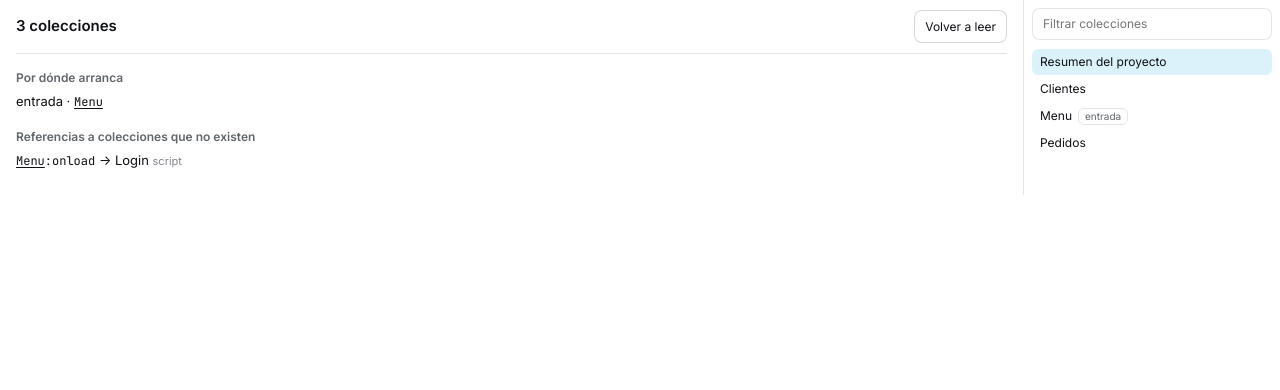
it: Colecciones › las tres confianzas van en grupos SEPARADOS, y la mención se rotula como señal floja
Click the button "Clientes": click(1152, 89) x1=1032 y1=76 x2=1272 y2=102
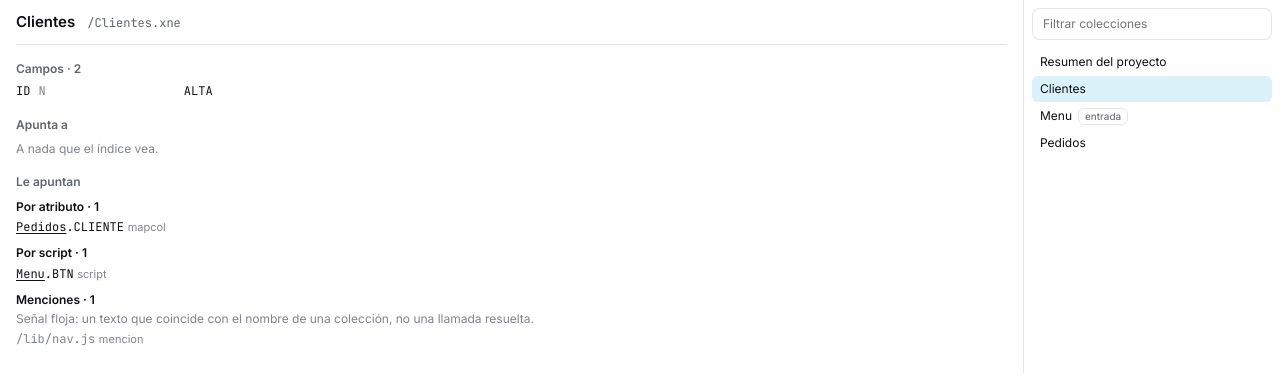
Expected: the text "Por atributo · 1" is shown, x1=16 y1=199 x2=99 y2=214
Expected: the text "Por script · 1" is shown, x1=16 y1=245 x2=87 y2=260
Expected: the text "Menciones · 1" is shown, x1=16 y1=292 x2=95 y2=307
